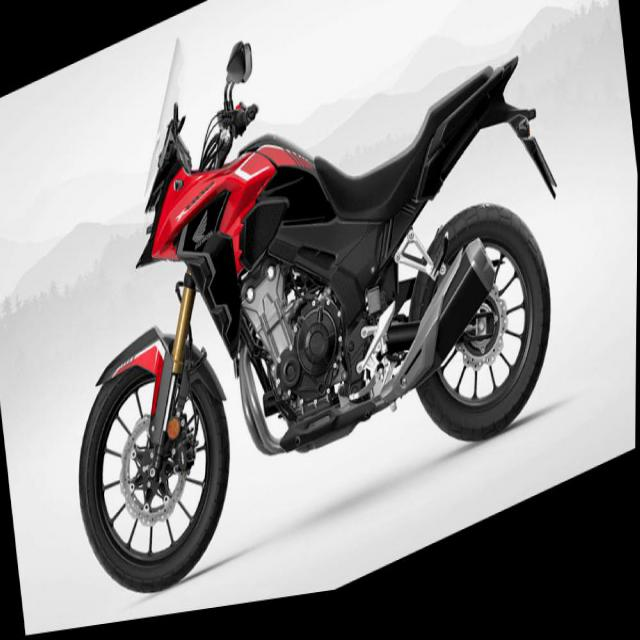CB500X: (32, 0, 586, 634)
